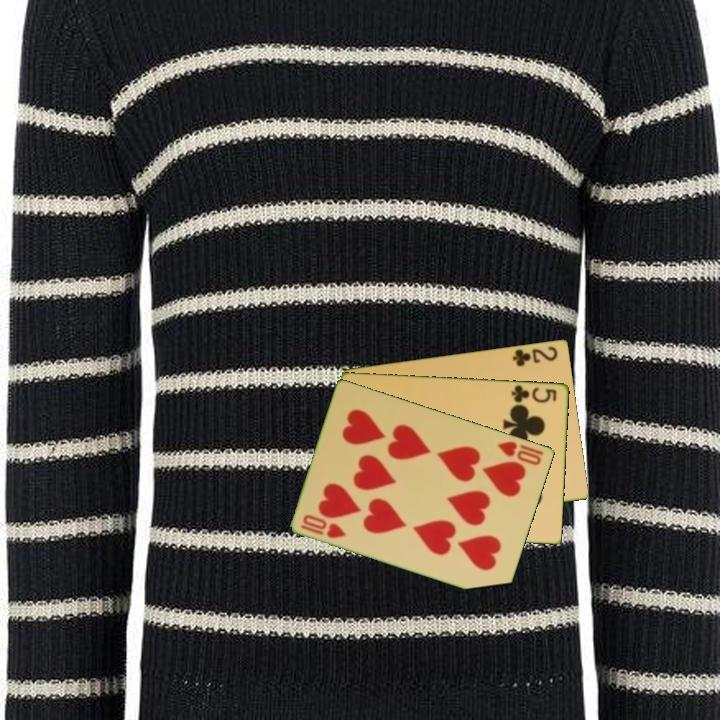10h: (494, 437, 547, 468), (297, 511, 349, 541)
2c: (509, 343, 561, 369)
5c: (508, 381, 560, 406)
